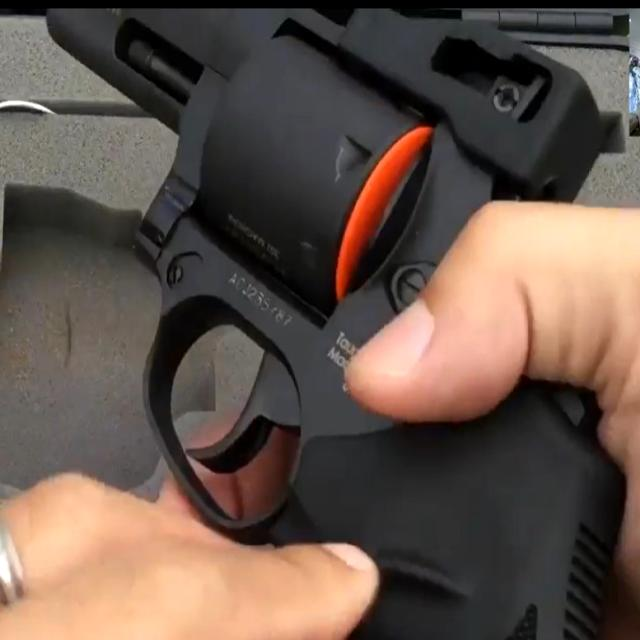revolver: (43, 6, 622, 630)
